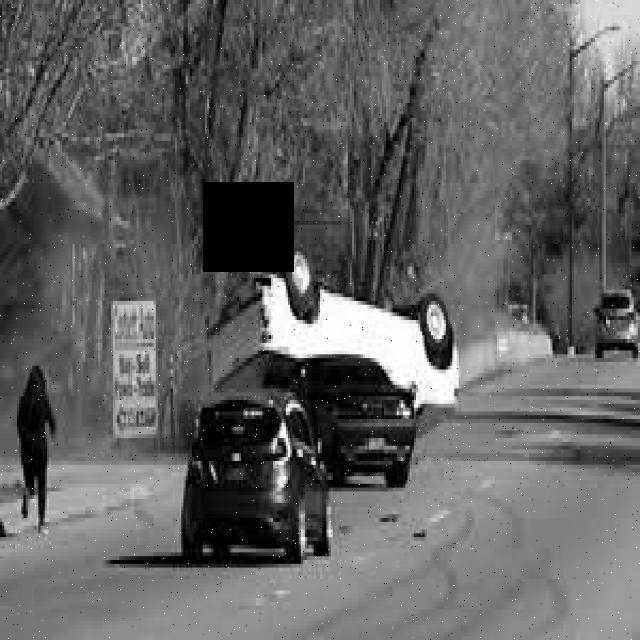accident: (200, 236, 463, 480)
vehicle: (174, 389, 339, 570), (590, 280, 640, 372)
